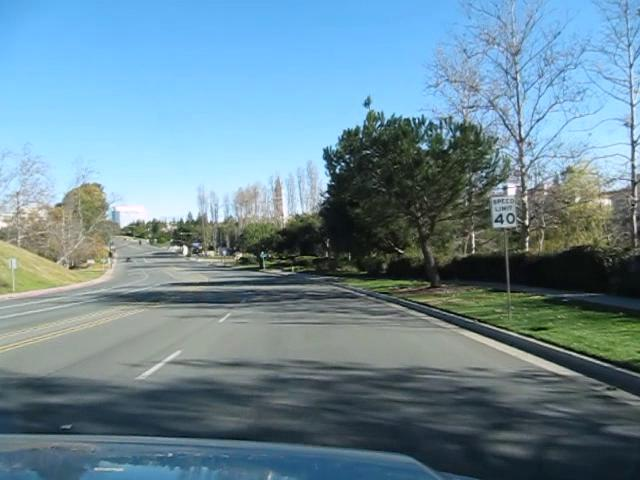speedLimit40: (490, 194, 518, 229)
